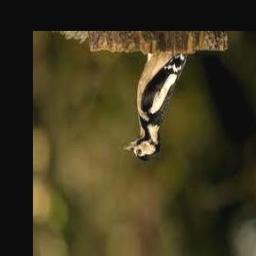Woodpecker: (122, 53, 188, 161)
